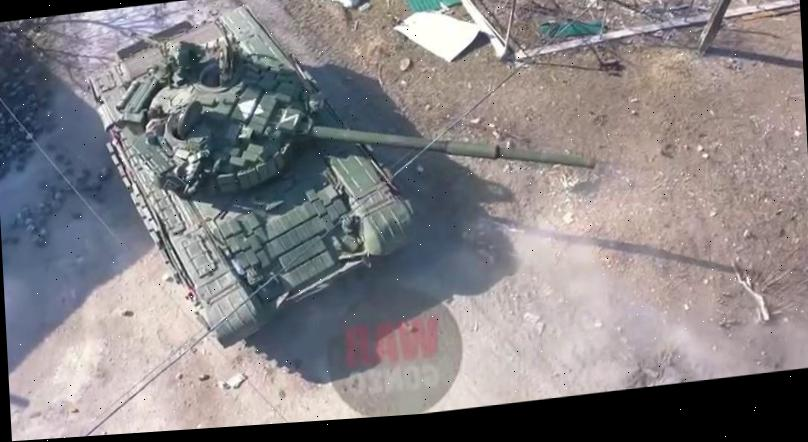tank: (81, 0, 602, 363)
